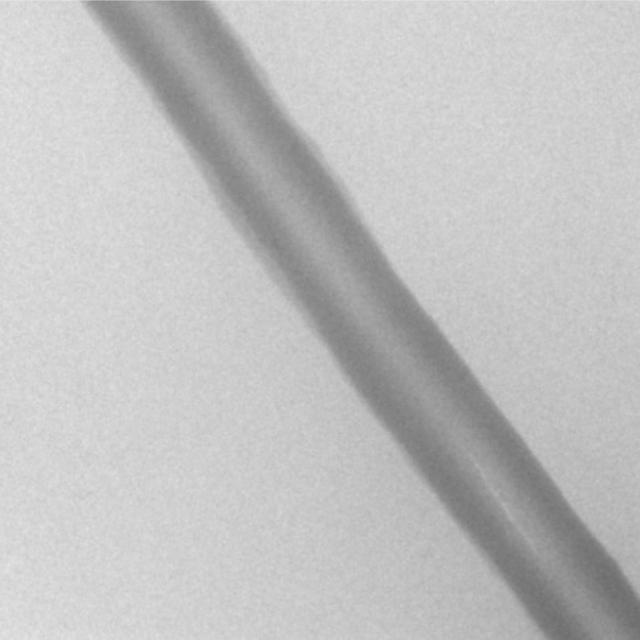crack: (471, 459, 534, 549)
